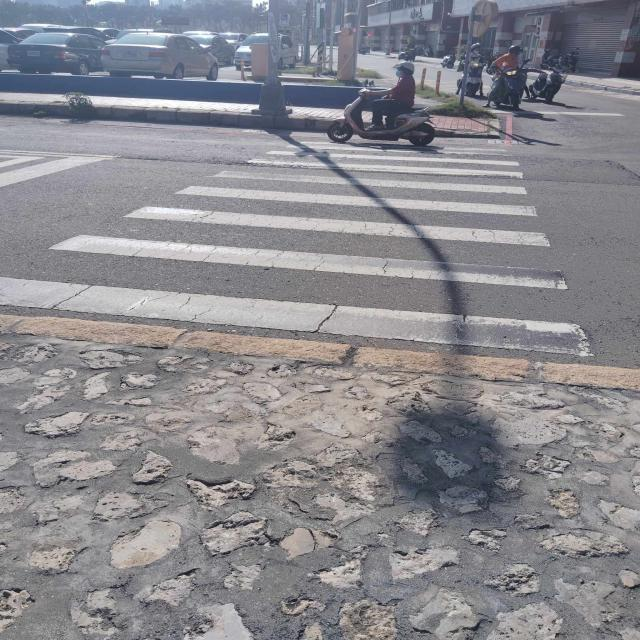person: (365, 61, 415, 131), (491, 45, 521, 74), (485, 84, 500, 108)
zebra crossing: (0, 135, 586, 359)
